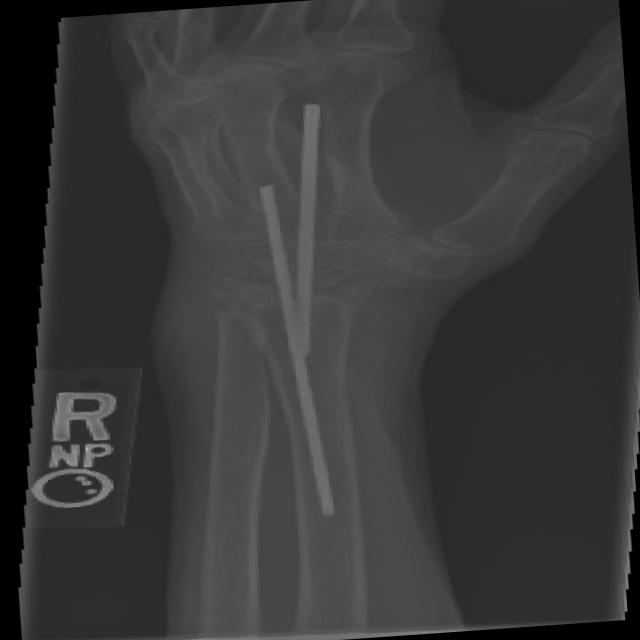fingers positive: (162, 266, 430, 366)
